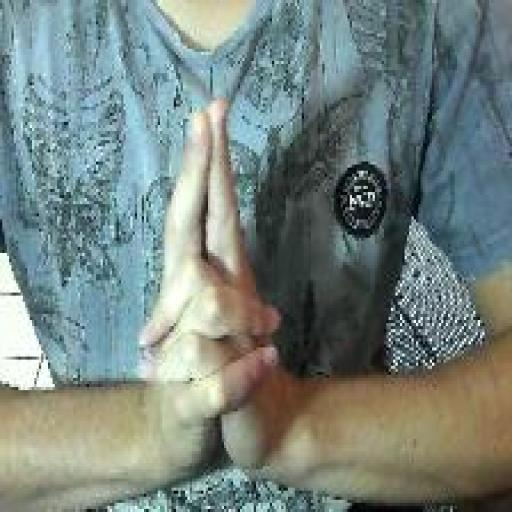Tora -tiger-: (132, 90, 286, 489)
